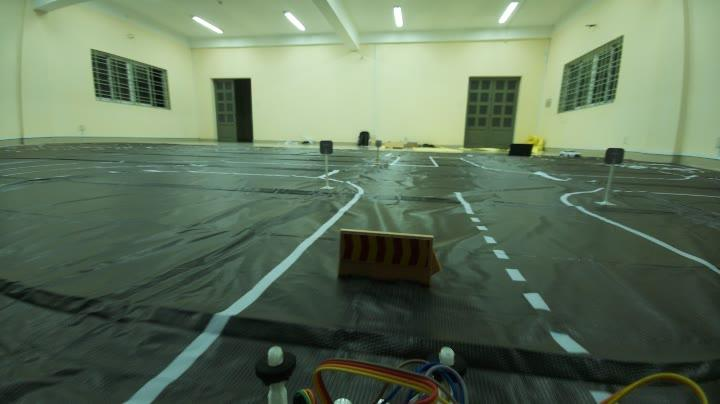roadblock: (328, 225, 443, 291)
